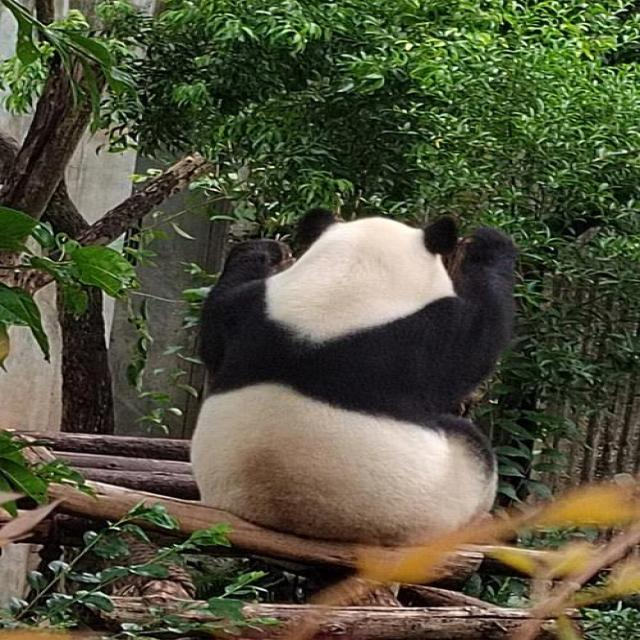panda: (190, 199, 546, 552)
